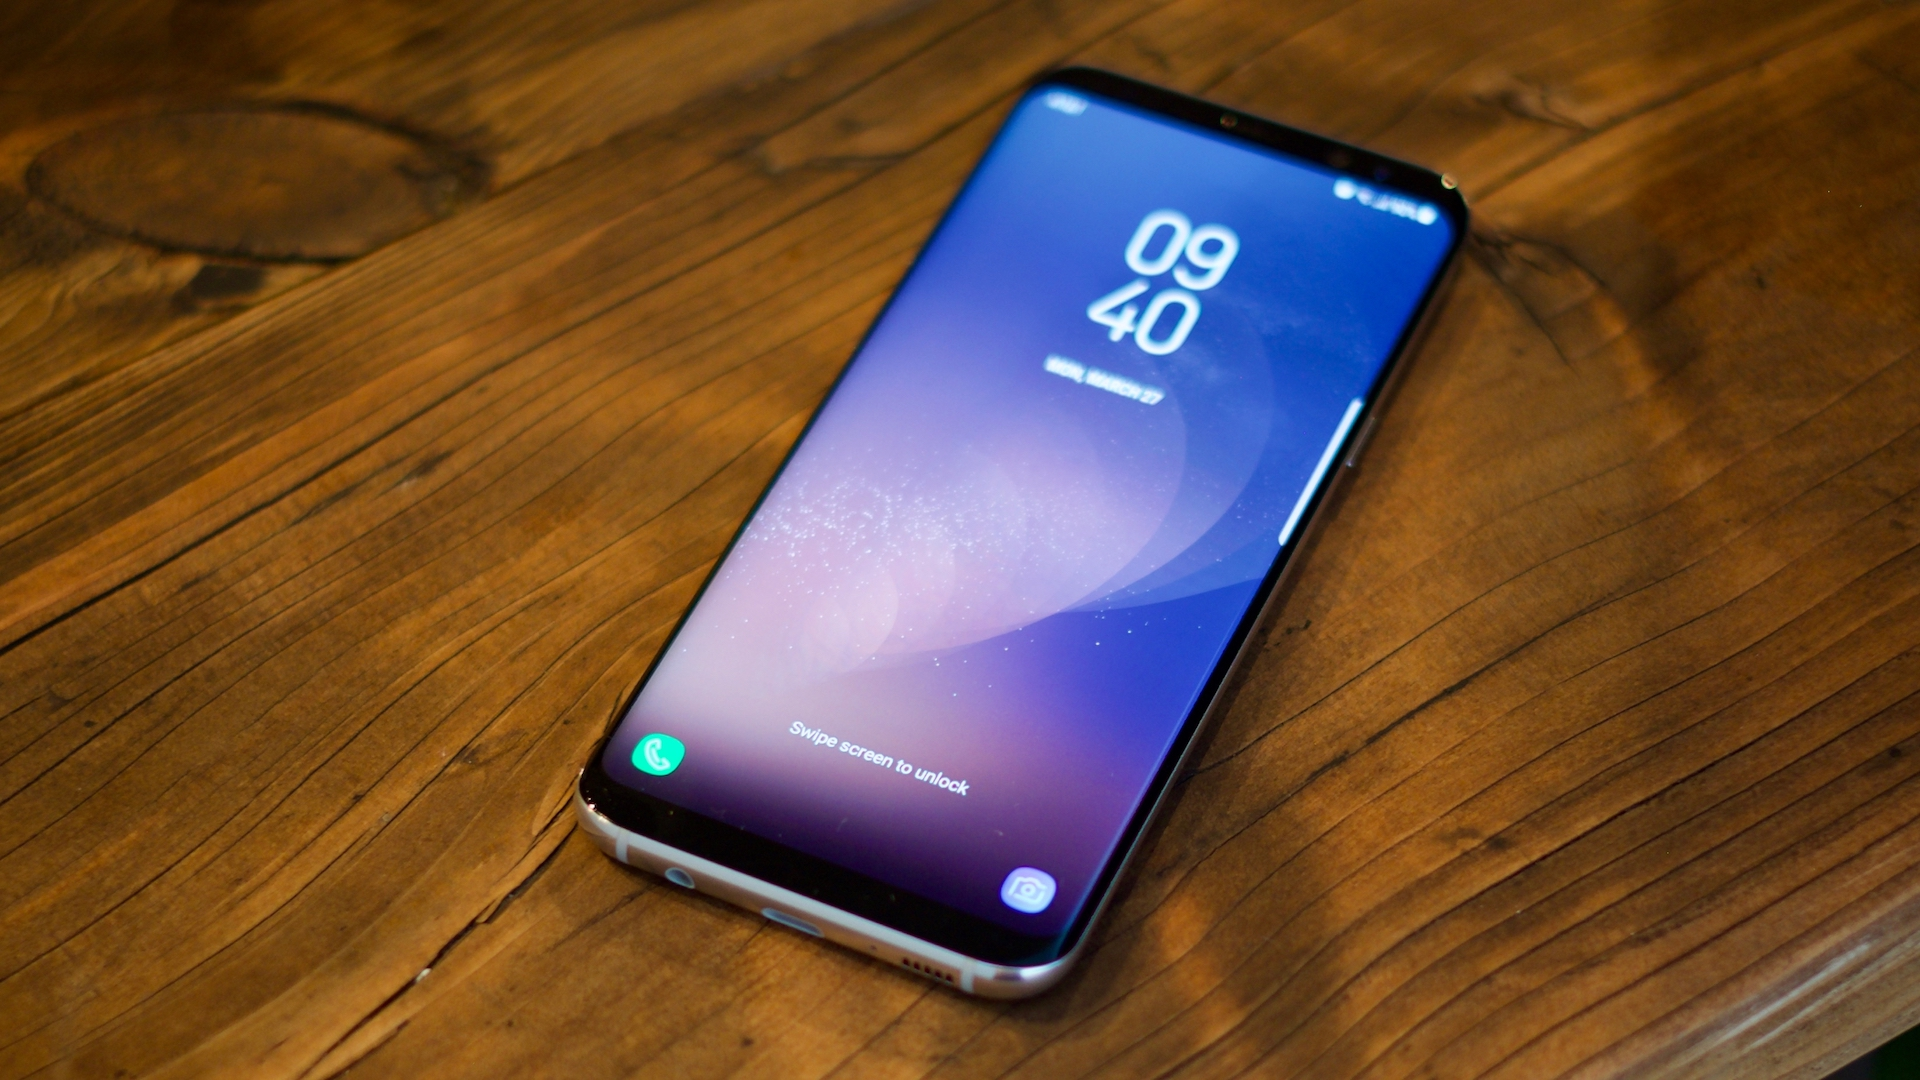smartphone: (571, 59, 1477, 1005)
